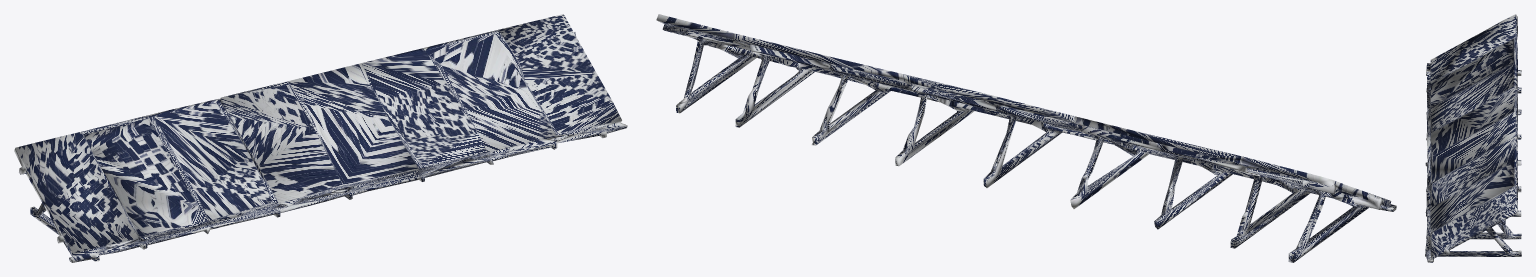
The model's file is solar.glb.
3 views of the same model, side by side, from view 1: azimuth 30°, elevation 25°; view 2: azimuth 150°, elevation 25°; view 3: azimuth 270°, elevation 25° (orthographic). The views are drawn at different scales.
Size of the model in its own units: 1.9 by 0.2427 by 0.3921.
Materials: 1 (1 with a texture image).
